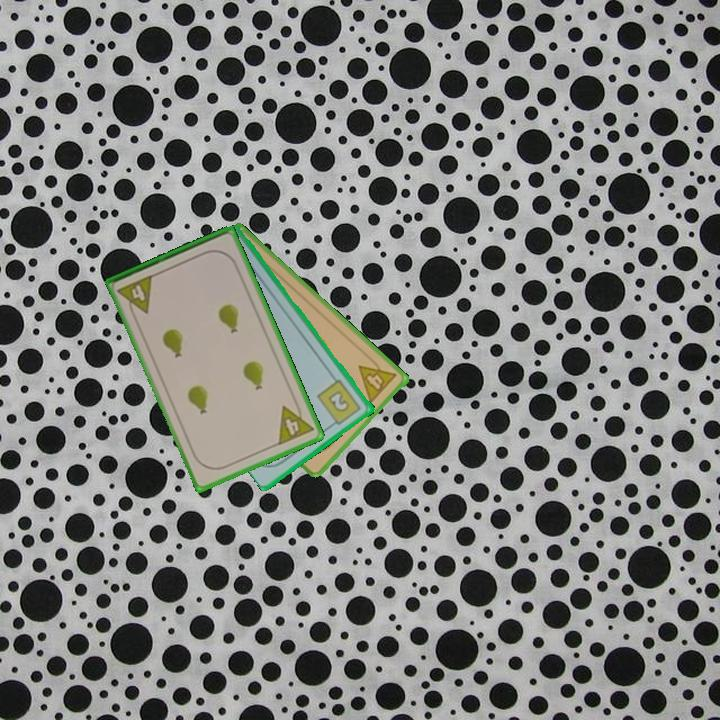2b: (314, 376, 364, 430)
4p: (355, 352, 400, 406), (274, 397, 317, 448), (114, 271, 156, 321)
